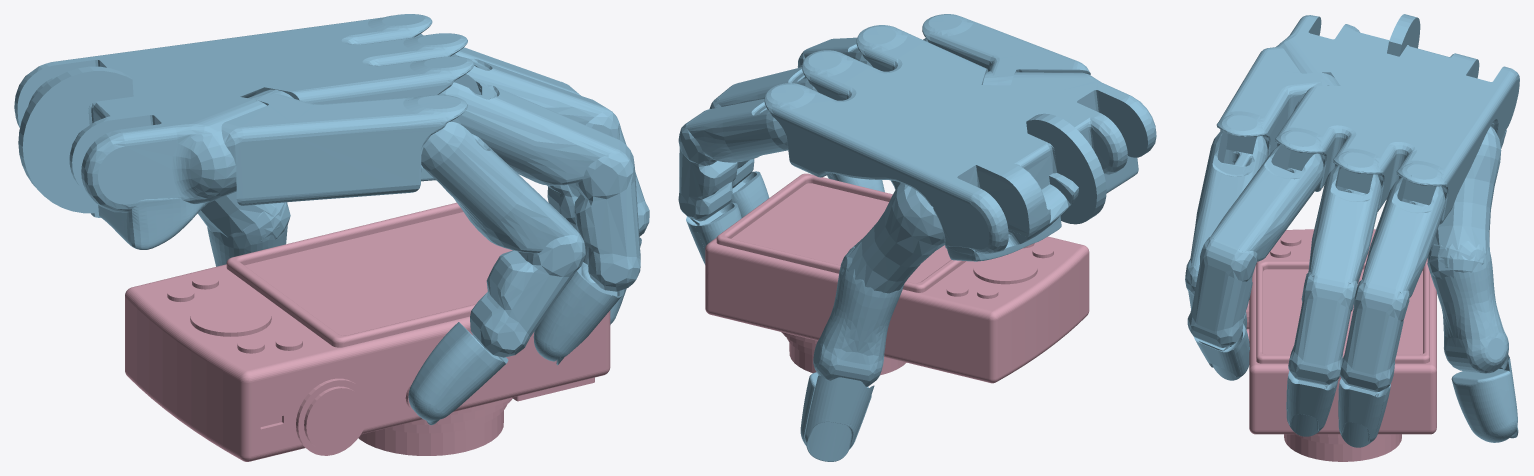
3 renders of one model, left to right at view 1: azimuth 30°, elevation 25°; view 2: azimuth 150°, elevation 25°; view 3: azimuth 270°, elevation 25°, orthographic. The views are drawn at different scales.
Visible parts, largest first — view 1: world; view 2: world; view 3: world.
Boxes of the visible parts, <box> form: world: <box>14,14,649,461</box>; world: <box>678,14,1156,461</box>; world: <box>1185,14,1519,461</box>.
Bounding box in the file's own units: 0.1714 × 0.1281 × 0.1154.
